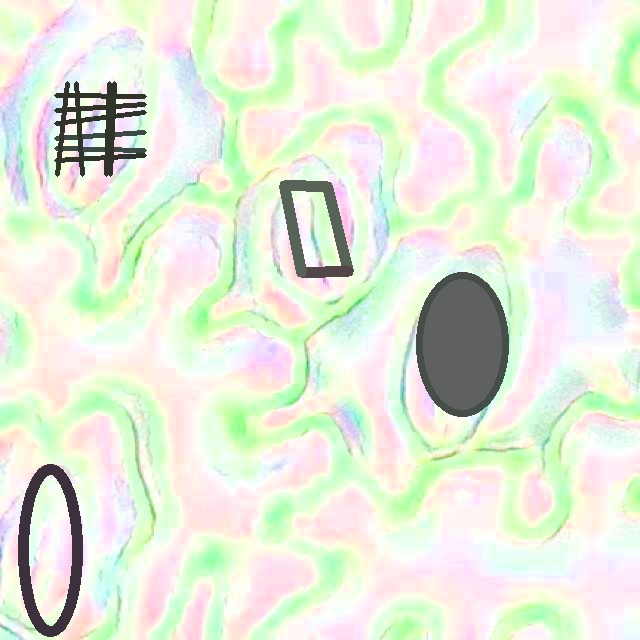open: (415, 272, 508, 417), (17, 463, 83, 637), (54, 81, 146, 176), (279, 182, 352, 276)
